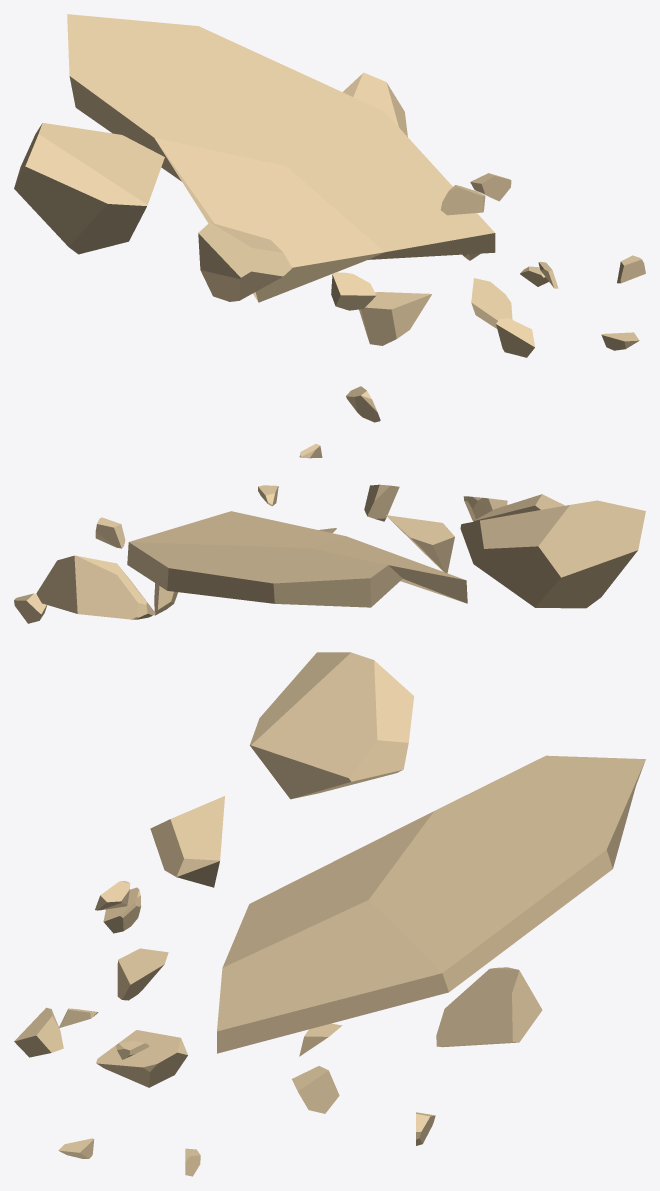
The model's file is rikki terrain.fbx.
3 renders of one model, top to bottom at view 1: azimuth 30°, elevation 25°; view 2: azimuth 150°, elevation 25°; view 3: azimuth 270°, elevation 25°, orthographic. The views are drawn at different scales.
Parts seen in each view (by area): view 1: Cube.004; view 2: Cube.004; view 3: Cube.004.
Boxes of the visible parts, x1=… form: Cube.004: x1=14, y1=14, x2=645, y2=357; Cube.004: x1=14, y1=386, x2=645, y2=623; Cube.004: x1=14, y1=652, x2=645, y2=1176.
Bounding box in the file's own units: 2682 × 1084 × 2365.
